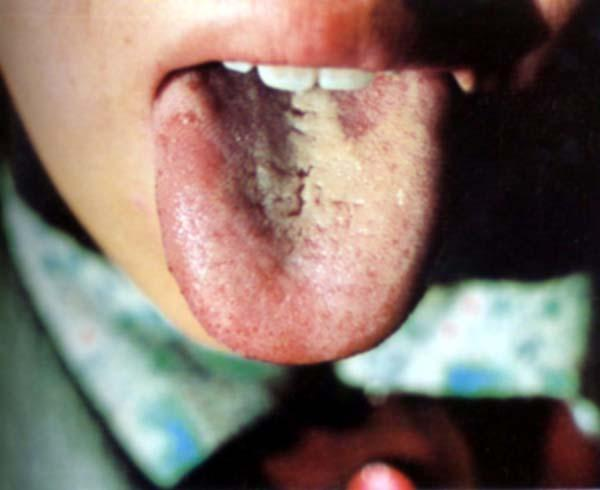hongshe: (155, 63, 447, 364)
huangtaishe: (155, 63, 447, 364)
liewenshe: (284, 182, 306, 217)
